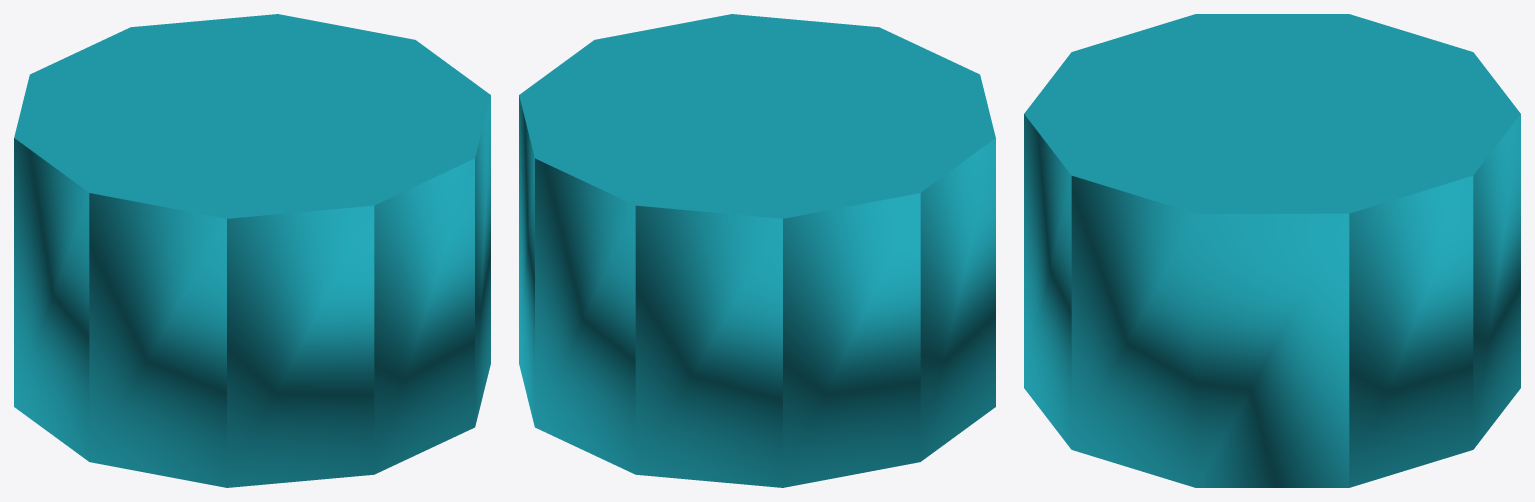
The model's file is Blocker_B_Top.fbx.
The picture shows the model from 3 angles, left to right: view 1: azimuth 30°, elevation 25°; view 2: azimuth 150°, elevation 25°; view 3: azimuth 270°, elevation 25°; orthographic projection.
Parts seen in each view (by area): view 1: Blocker_B_Top; view 2: Blocker_B_Top; view 3: Blocker_B_Top.
Part boxes in pixels (x1,y1,x2,y2): Blocker_B_Top: (14,14,490,487); Blocker_B_Top: (519,14,995,487); Blocker_B_Top: (1024,14,1520,487).
Size of the model in its own units: 2.3 by 1.47 by 2.42.
